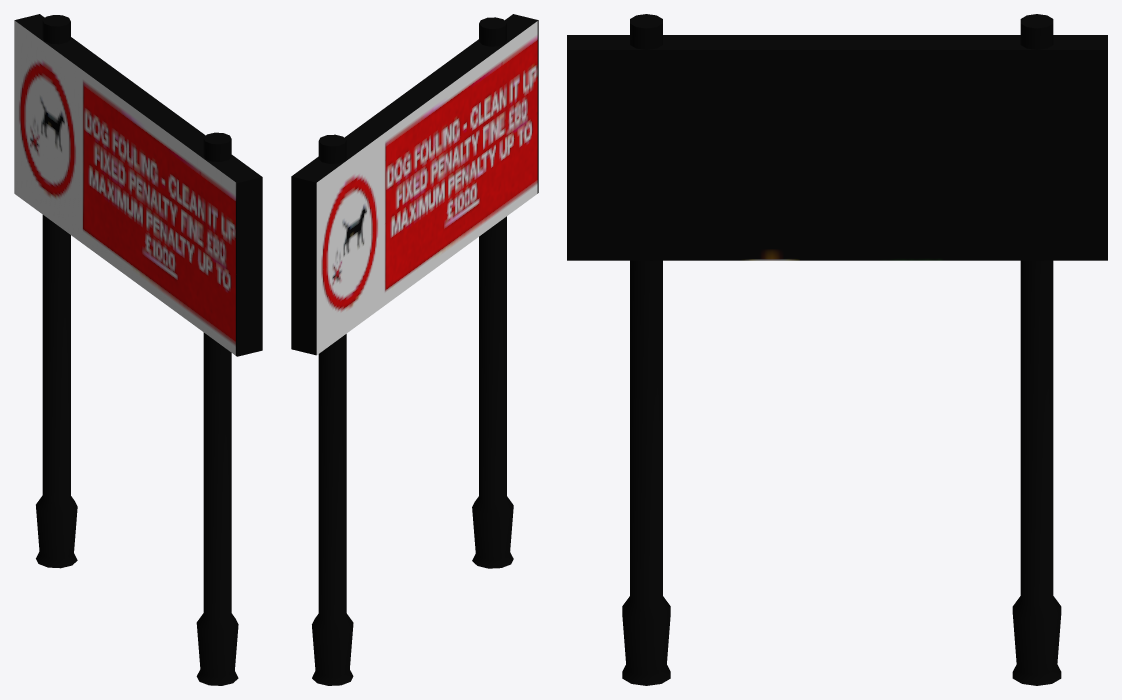
3 renders of one model, left to right at view 1: azimuth 30°, elevation 25°; view 2: azimuth 150°, elevation 25°; view 3: azimuth 270°, elevation 25°, orthographic. The views are drawn at different scales.
Visible parts, largest first — view 1: Cylinder002; view 2: Cylinder002; view 3: Cylinder002.
Boxes of the visible parts, left/top/right/bottom form: Cylinder002: left=14, top=14, right=262, bottom=685; Cylinder002: left=291, top=14, right=538, bottom=685; Cylinder002: left=567, top=14, right=1107, bottom=685.
Size of the model in its own units: 1.42 by 20.01 by 15.
